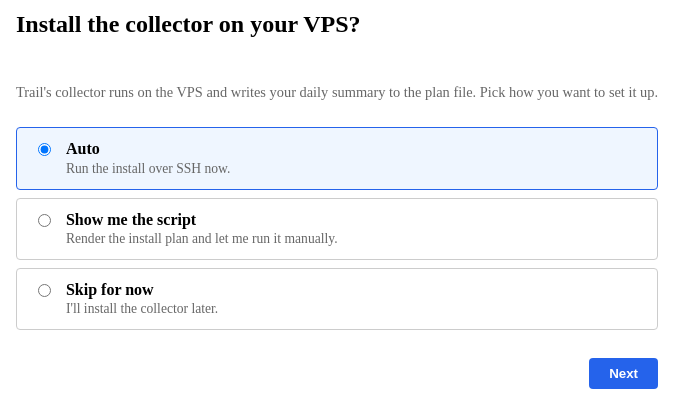
Test case: StepInstall.svelte › (b) clicking 'show_script' checks only that radio
The width and height of the screenshot is (675, 406).
Click the 2nd radio button. click: (44, 220)
box: [38,214,51,227]
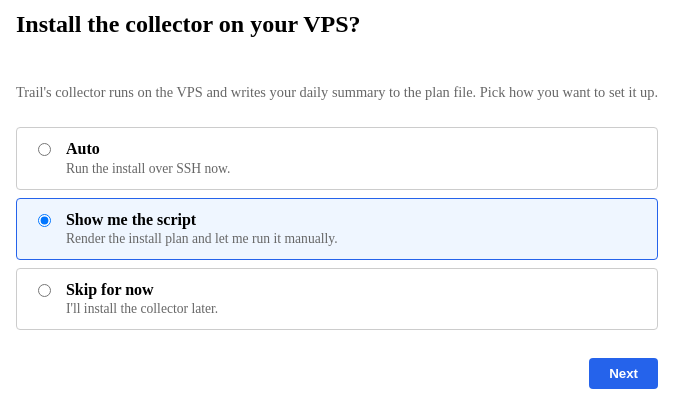
Now the 2nd radio button is checked, box [38,214,51,227]
Now the radio button labelled "Auto Run the install over SSH now." is not checked, box [38,143,51,156]
